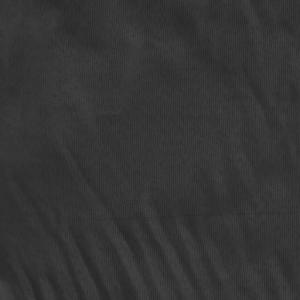Wrinkle: (1, 133, 300, 300)
